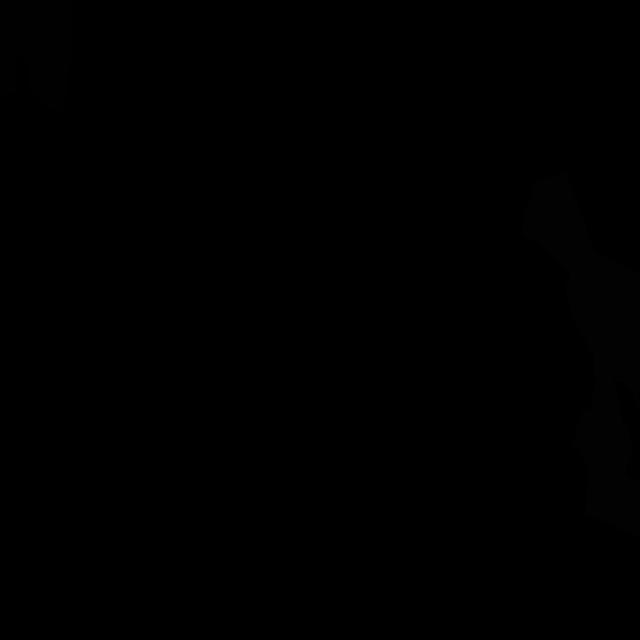cardboard: (521, 172, 640, 410), (571, 356, 640, 544)
